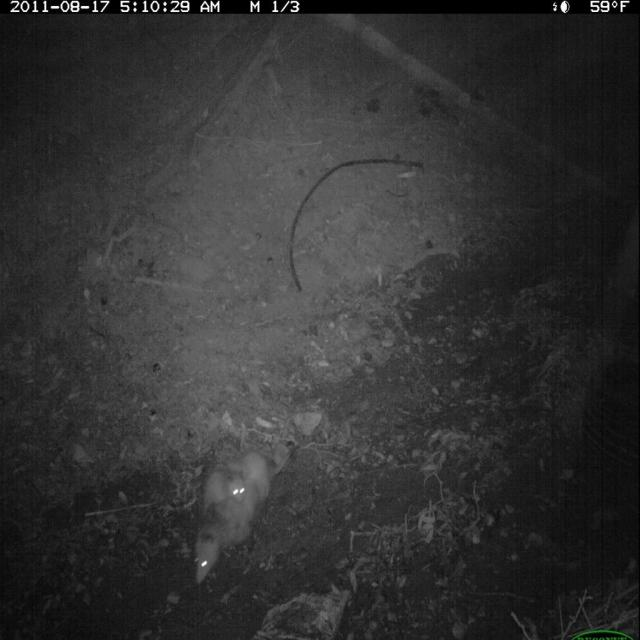opossum: (191, 435, 302, 589), (200, 462, 249, 512)
